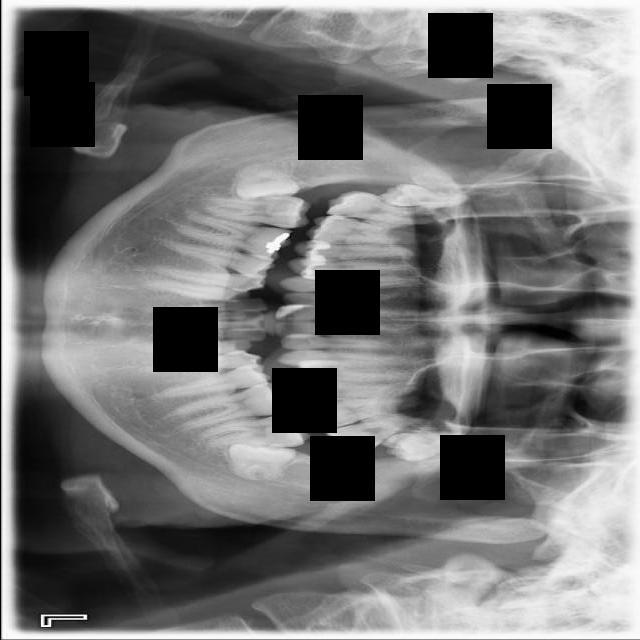3M ESPE Implant: (379, 183, 468, 207)
52: (236, 213, 295, 273), (305, 212, 362, 247), (288, 379, 337, 406), (288, 257, 335, 281), (295, 239, 335, 262)
73: (62, 580, 66, 591)
BioHorizons Implant: (325, 404, 444, 457)
BioLife Implant: (381, 428, 474, 464)
Biomet 3i Implant: (229, 442, 295, 481)
Blue Sky Bio Implant: (198, 414, 310, 448)
Caries: (325, 187, 441, 230)
Implant: (201, 191, 310, 230)
Keystone Dental Implant: (232, 158, 301, 202)
